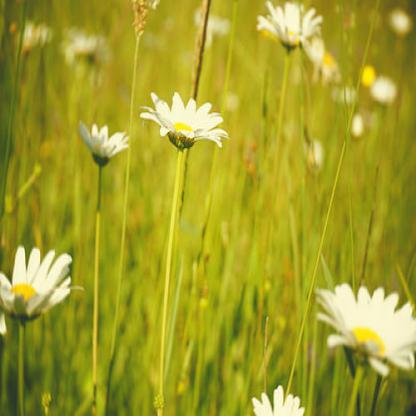ASTER: (2, 16, 410, 401)
